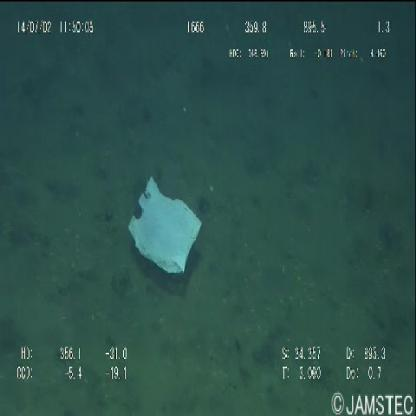Rác: (127, 176, 202, 276)
